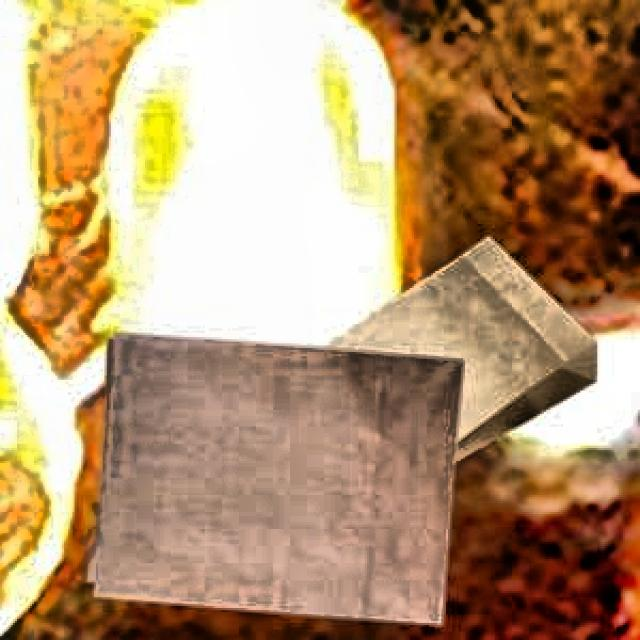Paper-bag: (76, 303, 477, 629), (265, 232, 608, 488)
